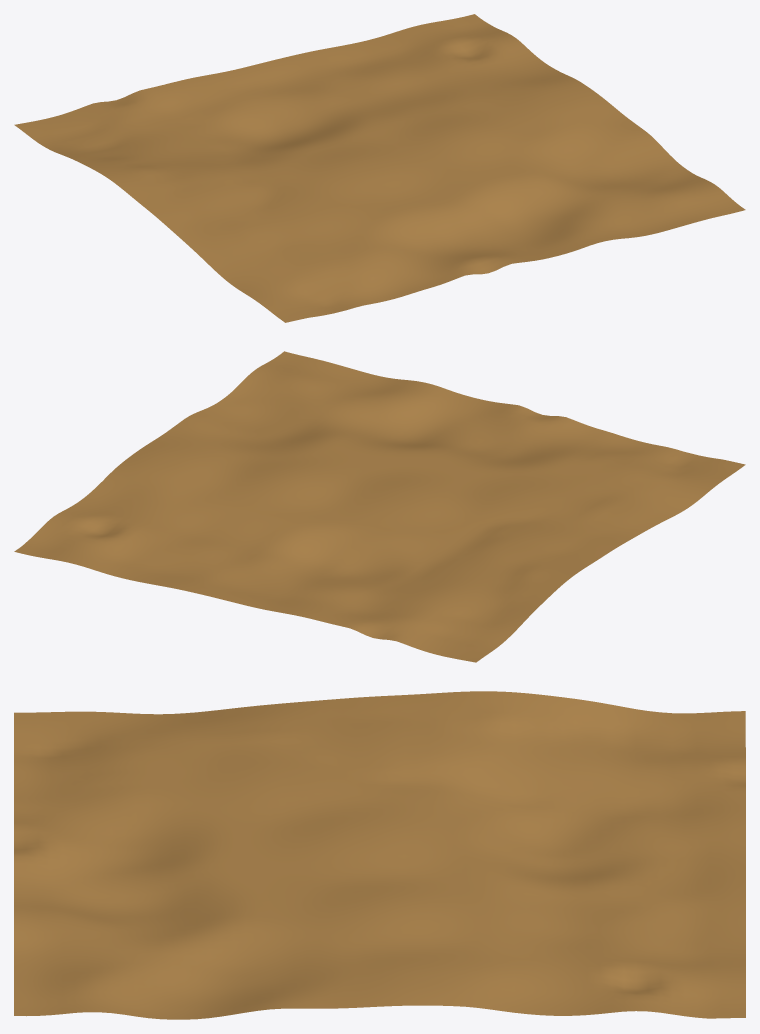
File: terre_carre8.fbx
3 renders of one model, top to bottom at view 1: azimuth 30°, elevation 25°; view 2: azimuth 150°, elevation 25°; view 3: azimuth 270°, elevation 25°, orthographic. The views are drawn at different scales.
Parts seen in each view (by area): view 1: terre_carre8; view 2: terre_carre8; view 3: terre_carre8.
Part boxes in pixels (x1,y1,x2,y2): terre_carre8: (14,14,745,322); terre_carre8: (14,351,745,662); terre_carre8: (14,691,745,1019).
Size of the model in its own units: 710 by 33.71 by 720.
